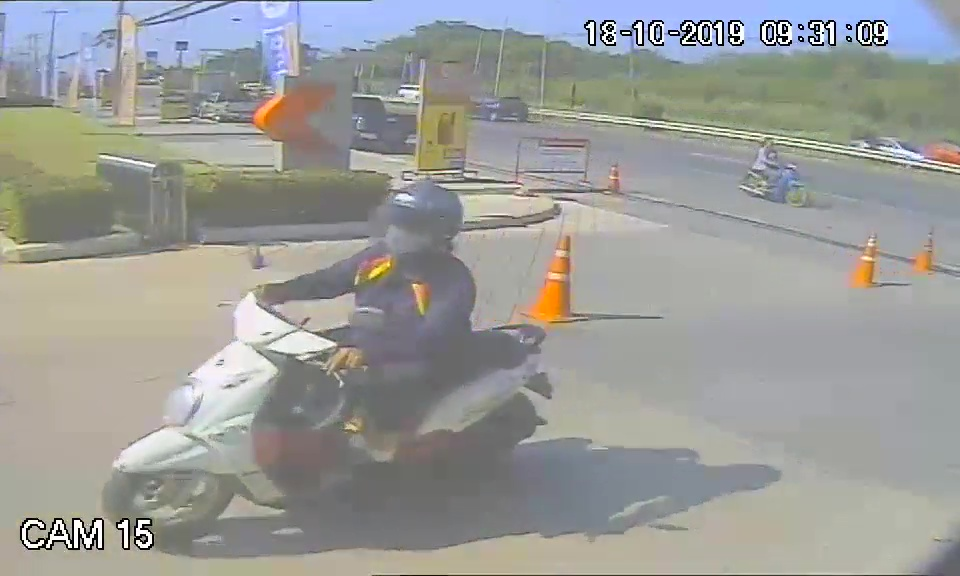motorcycle: (100, 286, 559, 544)
